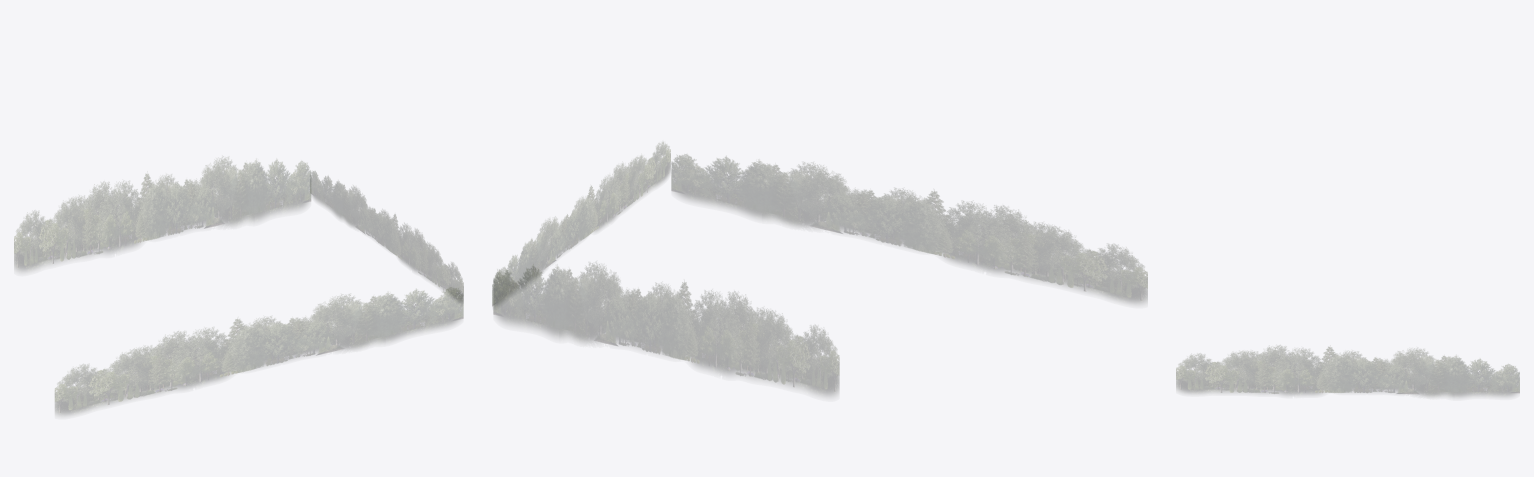
File: tree panorama.glb
The picture shows the model from 3 angles, left to right: view 1: azimuth 30°, elevation 25°; view 2: azimuth 150°, elevation 25°; view 3: azimuth 270°, elevation 25°; orthographic projection. The views are drawn at different scales.
Visible parts, largest first — view 1: tree panorama.002, tree panorama, tree panorama.001; view 2: tree panorama.002, tree panorama, tree panorama.001; view 3: tree panorama.001.
Part boxes in pixels (left/top/right/bottom): tree panorama.002: left=55, top=287, right=463, bottom=414; tree panorama: left=14, top=157, right=310, bottom=270; tree panorama.001: left=311, top=171, right=463, bottom=300; tree panorama.002: left=671, top=154, right=1147, bottom=303; tree panorama: left=493, top=263, right=839, bottom=395; tree panorama.001: left=492, top=142, right=670, bottom=306; tree panorama.001: left=1176, top=345, right=1519, bottom=396.
Size of the model in its own units: 135 by 76.2 by 87.48.
1 material, 1 textured.
